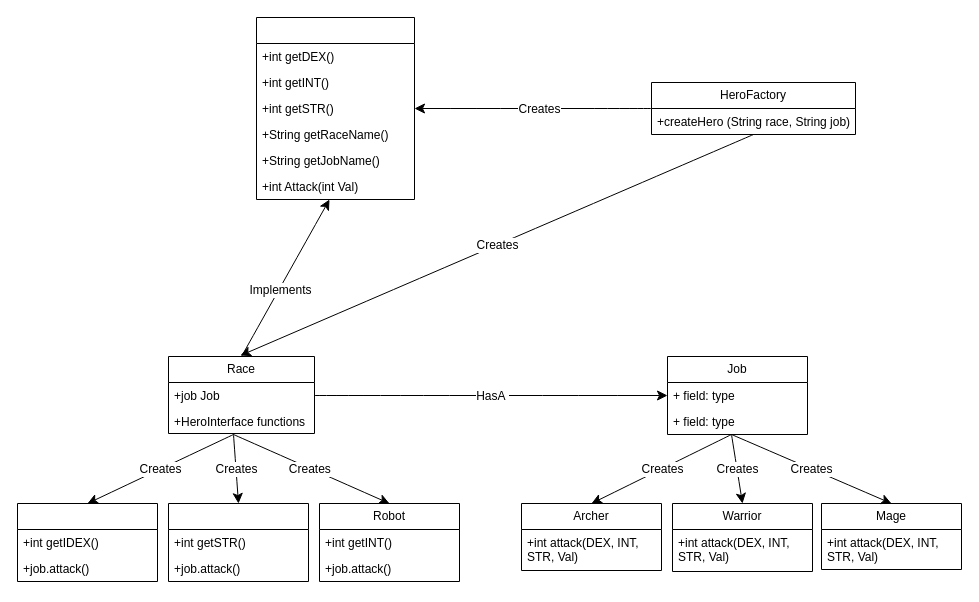
Image size: 979x602. Some labels were removed from this diagram. The shapes that lost their labels are listed below. From the top down, each one's box as (x1, y1, x2, y2) in pixels, then its label:
(256, 16, 414, 200): HeroInterface
(16, 502, 158, 582): Elf
(168, 502, 308, 582): Dwarf
